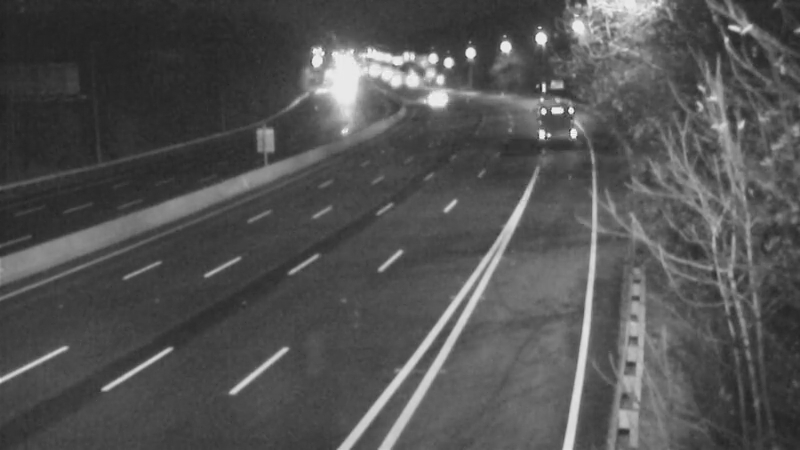vehicle: (368, 58, 418, 108), (386, 55, 436, 105), (410, 74, 460, 124), (526, 93, 576, 143), (320, 71, 370, 121)
